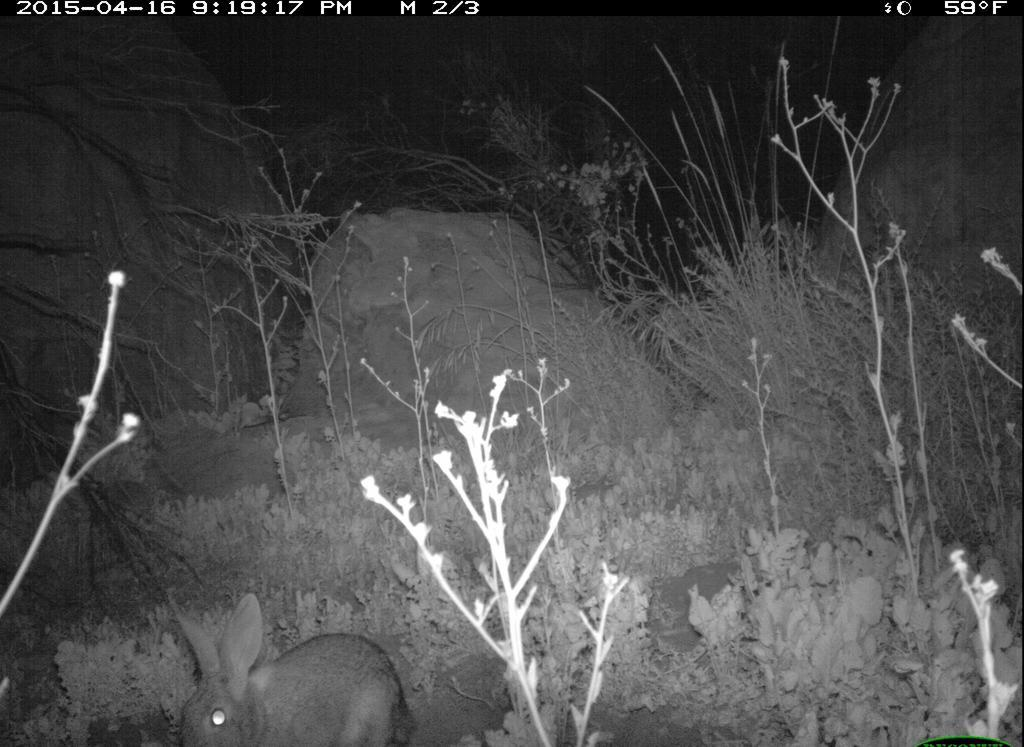rabbit: (153, 580, 423, 747)
